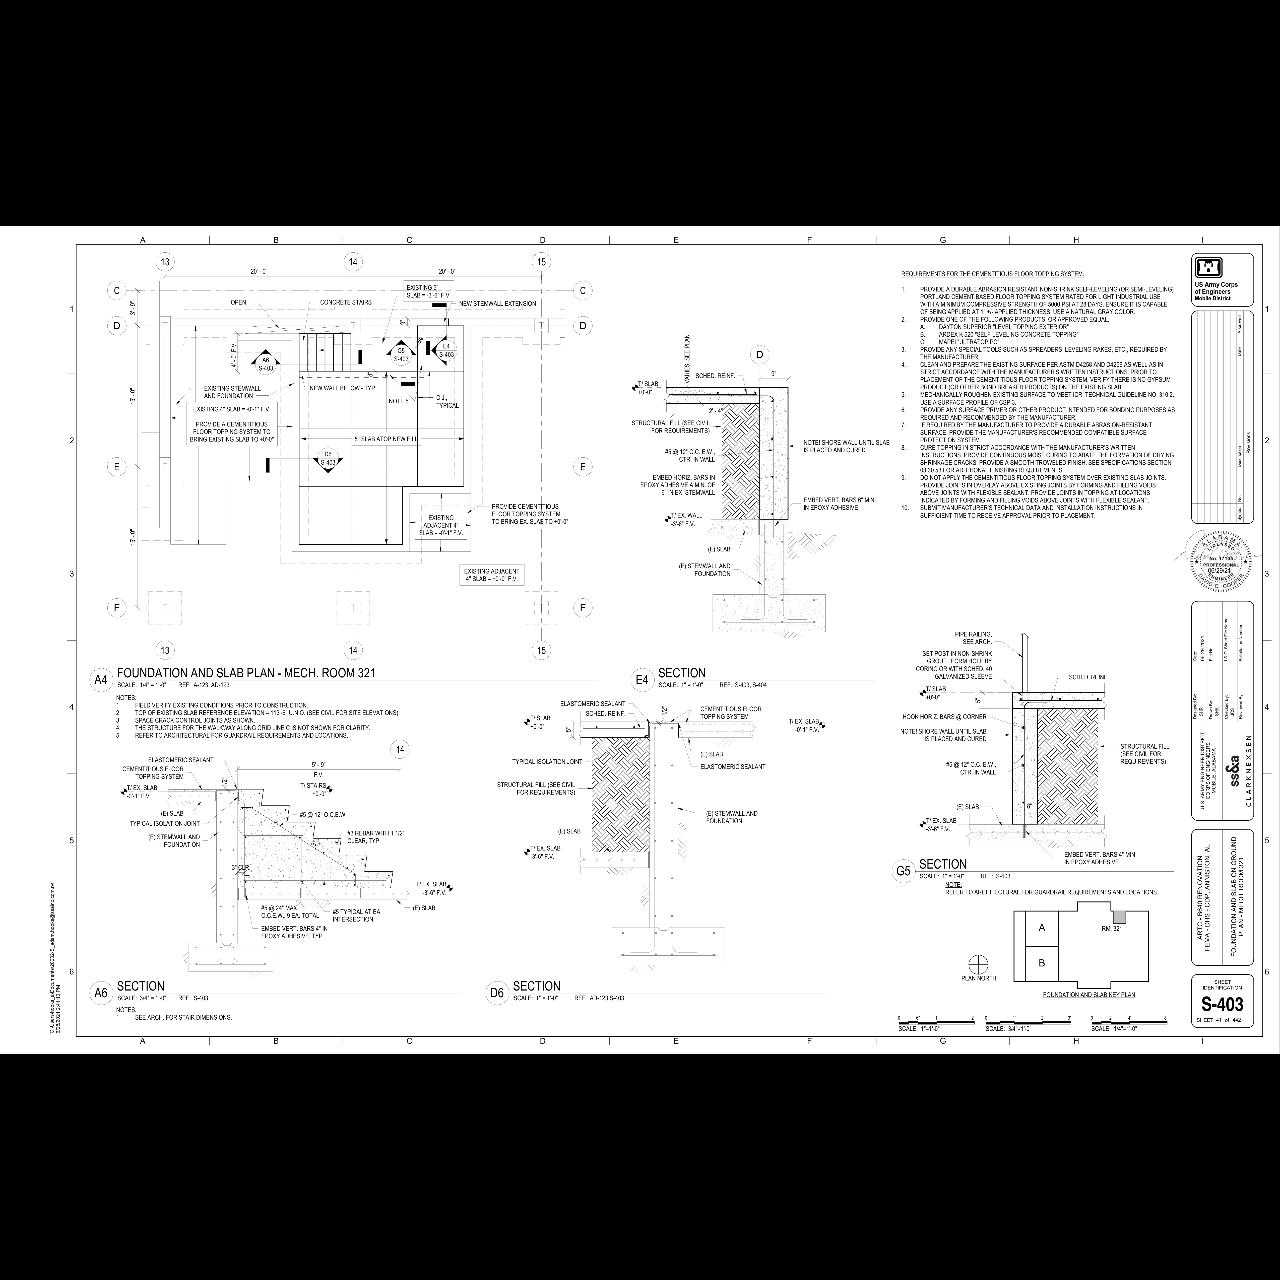elevation: (248, 347, 287, 377), (309, 447, 348, 477), (382, 336, 418, 368), (430, 334, 462, 368)
title: (86, 663, 600, 693), (88, 975, 470, 1007), (485, 974, 831, 1008), (887, 855, 1179, 885), (627, 663, 880, 694)
